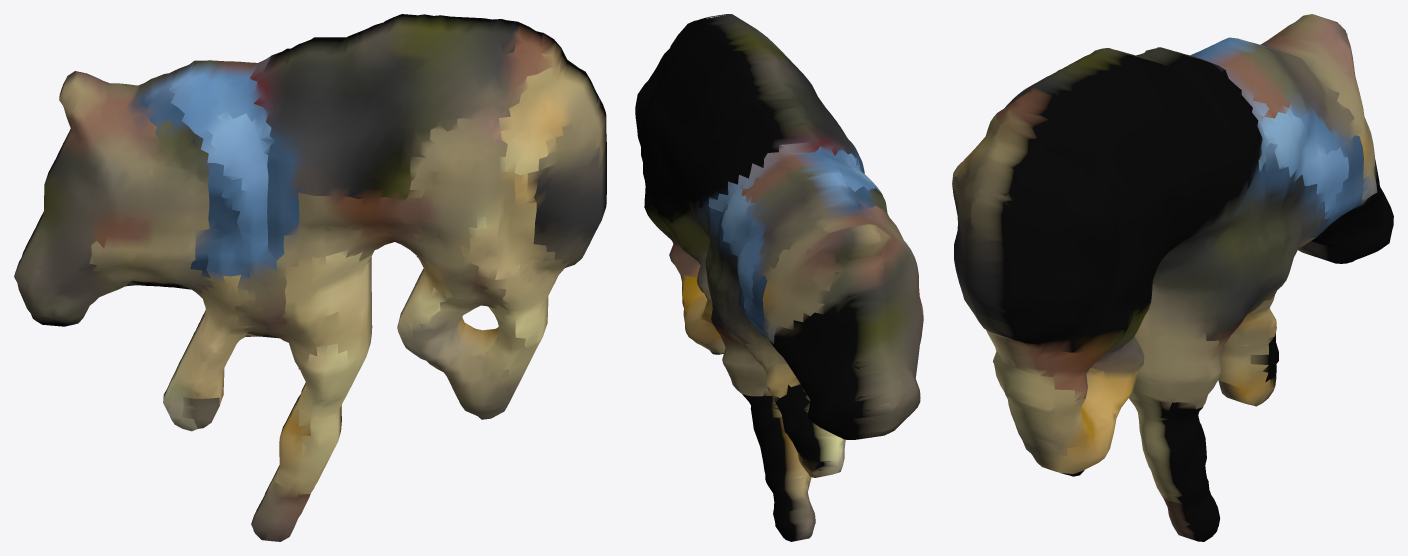
The model's file is allied_attack_dog.glb.
3 views of the same model, side by side, from view 1: azimuth 30°, elevation 25°; view 2: azimuth 150°, elevation 25°; view 3: azimuth 270°, elevation 25° (orthographic). The views are drawn at different scales.
Parts seen in each view (by area): view 1: allied_attack_dog; view 2: allied_attack_dog; view 3: allied_attack_dog.
Boxes of the visible parts, x1,y1,x2,y2 form: allied_attack_dog: (14, 14, 606, 541); allied_attack_dog: (635, 14, 923, 541); allied_attack_dog: (952, 14, 1393, 541).
Size of what is drawn, in the model's own units: 1.71 by 1.95 by 1.48.
